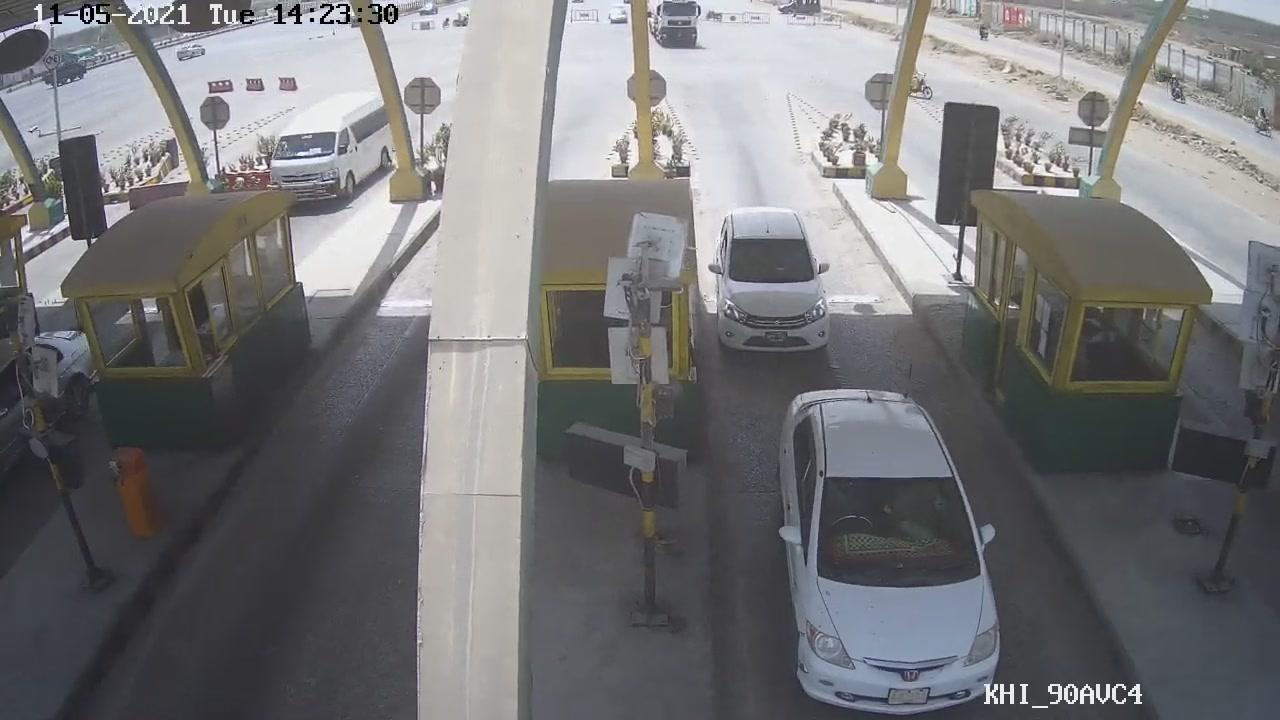F1: (768, 381, 1006, 716), (704, 202, 842, 358)
